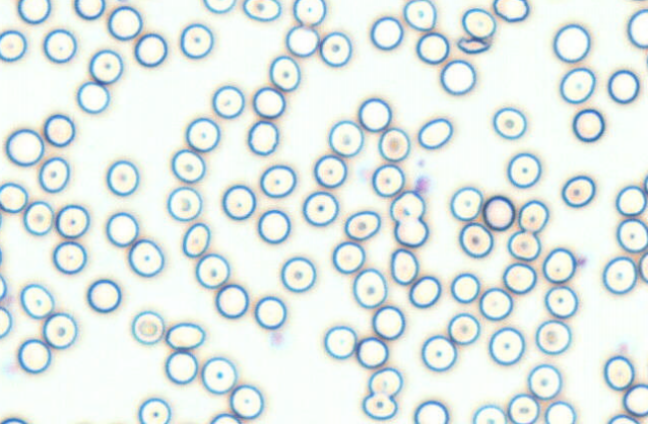PLT: (415, 175, 433, 193), (617, 341, 629, 354)
RBC: (552, 23, 591, 63), (4, 128, 44, 166), (127, 238, 164, 277), (488, 326, 525, 365), (352, 267, 387, 308), (420, 334, 457, 372), (200, 356, 237, 394), (559, 66, 596, 104), (328, 119, 364, 157), (602, 255, 637, 294), (439, 59, 476, 95), (302, 190, 339, 226), (280, 255, 316, 292), (535, 319, 571, 355), (166, 185, 202, 221), (527, 363, 562, 400), (458, 221, 493, 258), (195, 252, 230, 289), (42, 312, 77, 349), (506, 151, 541, 188), (214, 283, 249, 319), (229, 383, 264, 419), (19, 283, 54, 319), (107, 5, 143, 40), (88, 48, 123, 84), (55, 203, 90, 239), (221, 184, 256, 220), (259, 164, 296, 198), (105, 159, 139, 196), (179, 22, 213, 59), (42, 28, 77, 63), (170, 148, 205, 183), (185, 117, 220, 152), (86, 278, 121, 313), (17, 338, 51, 374), (542, 247, 576, 283), (105, 211, 139, 247), (257, 208, 291, 244), (482, 194, 515, 231), (319, 30, 352, 67), (130, 310, 164, 345), (371, 305, 405, 340), (369, 15, 403, 50), (449, 186, 483, 221), (313, 153, 347, 188), (52, 240, 87, 274), (357, 97, 391, 132), (211, 84, 245, 119), (561, 174, 596, 208), (607, 68, 640, 104), (268, 54, 300, 91), (344, 209, 381, 241), (38, 156, 70, 193), (165, 321, 205, 350), (164, 350, 198, 384), (323, 325, 357, 359), (331, 240, 365, 274), (371, 163, 405, 197), (571, 108, 605, 142), (134, 32, 167, 67), (377, 127, 410, 162), (492, 106, 527, 139), (389, 190, 425, 222), (247, 119, 279, 155), (417, 117, 453, 149), (285, 24, 319, 57), (479, 287, 513, 320), (76, 81, 110, 114), (415, 31, 449, 64), (544, 285, 578, 318), (461, 7, 496, 39), (254, 295, 286, 330), (22, 200, 54, 235), (389, 248, 419, 285), (447, 312, 480, 345), (408, 275, 441, 308), (252, 86, 285, 119), (517, 199, 549, 233), (502, 262, 536, 294), (43, 113, 75, 147), (393, 216, 428, 247), (506, 230, 541, 261), (603, 355, 634, 390), (616, 218, 647, 253), (367, 367, 403, 397), (355, 336, 388, 368), (361, 392, 398, 420), (403, 0, 436, 31), (181, 222, 210, 257), (615, 185, 646, 216), (507, 393, 539, 423), (450, 272, 480, 303), (292, 0, 326, 27), (0, 181, 28, 213), (0, 29, 27, 62), (137, 397, 171, 423), (413, 399, 449, 423), (626, 8, 647, 49), (622, 383, 647, 417), (242, 0, 281, 21), (17, 0, 51, 24), (492, 0, 529, 22), (544, 400, 576, 423), (472, 403, 507, 423), (73, 0, 105, 20), (202, 0, 236, 14), (0, 306, 12, 338), (209, 412, 241, 423), (607, 413, 639, 423), (638, 251, 647, 283), (0, 416, 28, 423), (0, 273, 7, 300), (643, 172, 648, 194), (0, 245, 2, 266)
Schistocyte: (458, 37, 492, 54)
